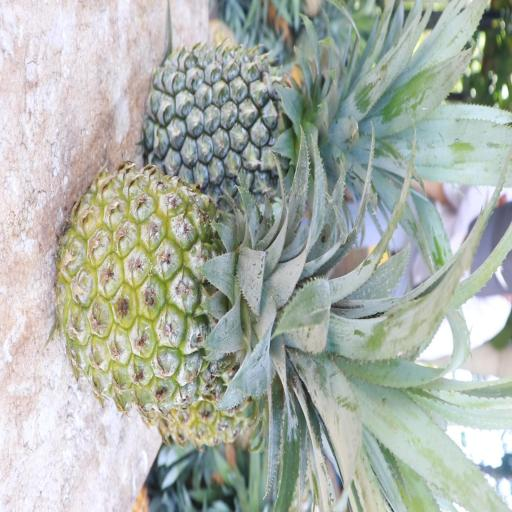------------------------------: (48, 164, 346, 433)
